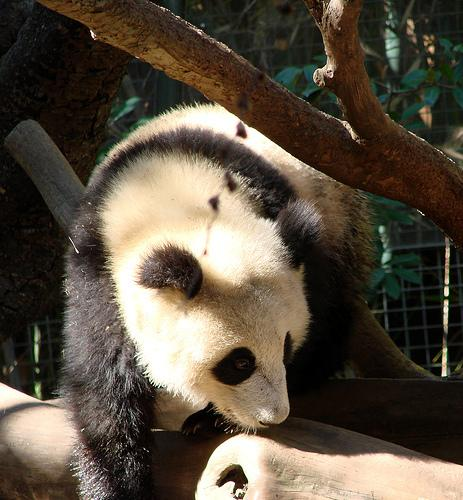panda: (60, 106, 372, 499)
